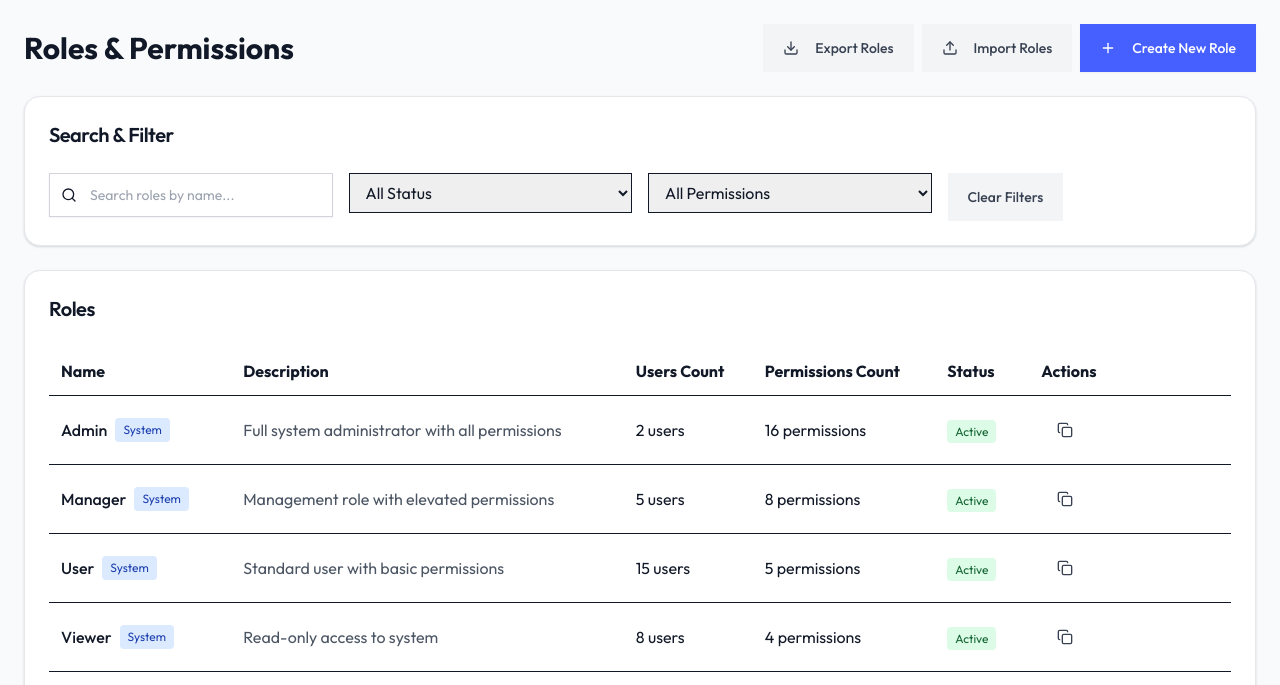
Test: RolesPermissionsPage › Create New Role › should validate required fields
This screenshot has width=1280, height=685.
Click the button with test id "create-role-button".
click(1168, 48)  # box [1080, 24, 1256, 72]
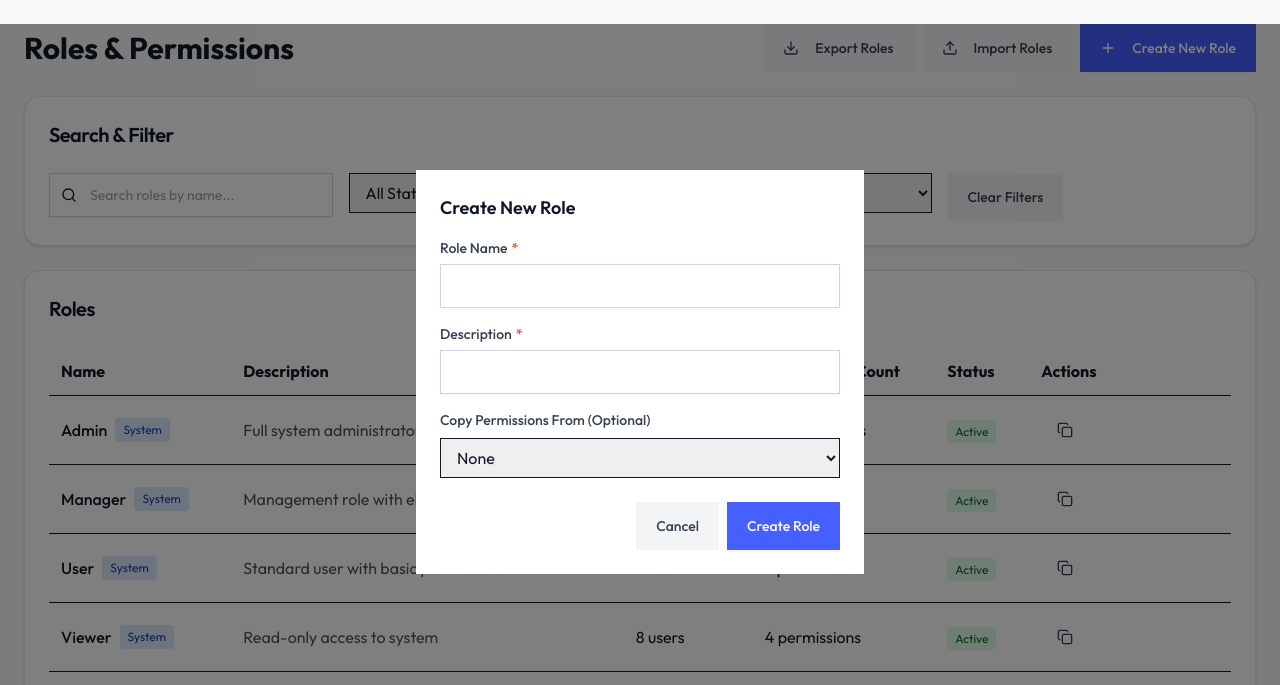
Click the button with test id "create-role-submit".
click(784, 526)  # box [727, 502, 840, 550]
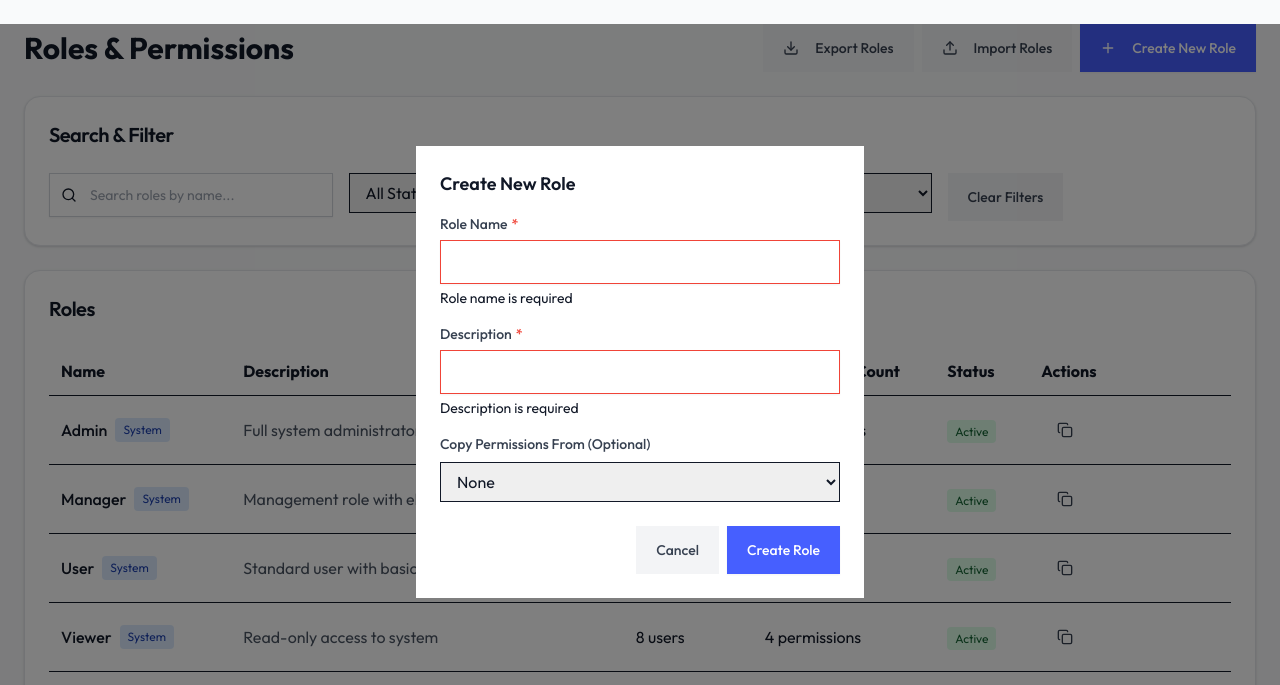
Check: the text "Role name is required" is shown, box [440, 289, 573, 307]
Check: the text "Description is required" is shown, box [440, 399, 579, 417]
